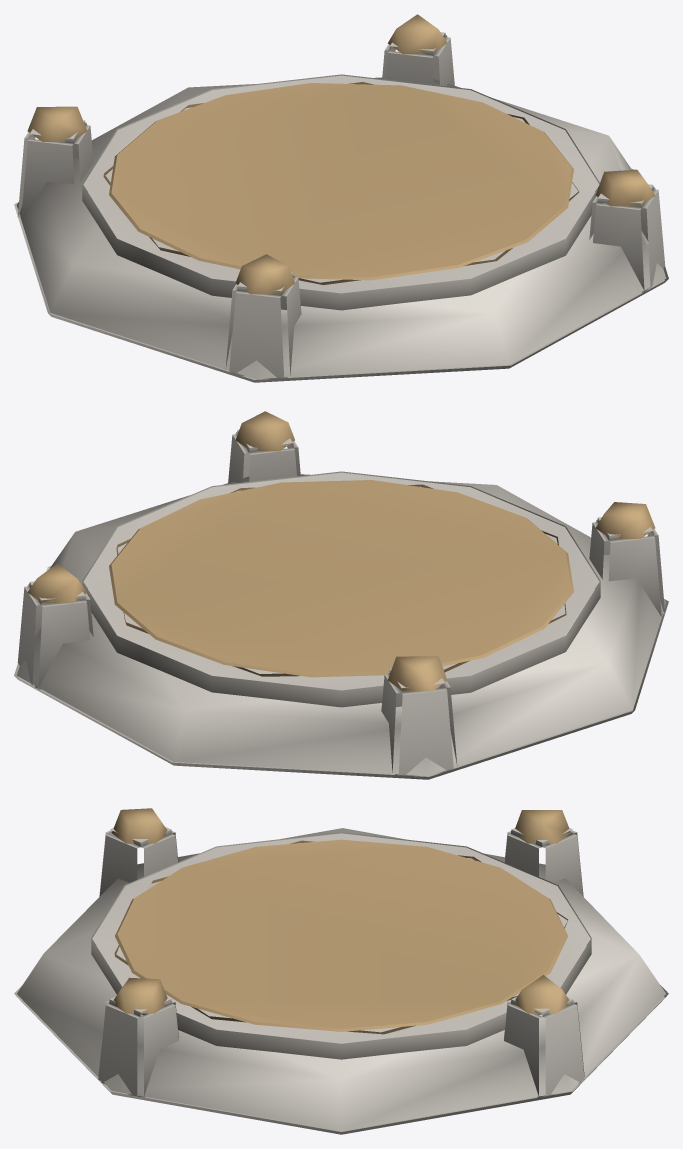
File: ink_cannon_base_lod1.glb
The picture shows the model from 3 angles, top to bottom: view 1: azimuth 30°, elevation 25°; view 2: azimuth 150°, elevation 25°; view 3: azimuth 270°, elevation 25°; orthographic projection. The views are drawn at different scales.
Visible parts, largest first — view 1: ink_cannon_base.001; view 2: ink_cannon_base.001; view 3: ink_cannon_base.001.
Part boxes in pixels (box(x1,y1,x2,y2)): ink_cannon_base.001: box(14, 14, 668, 382); ink_cannon_base.001: box(14, 411, 668, 779); ink_cannon_base.001: box(14, 808, 668, 1134).
Bounding box in the file's own units: 3.41 × 0.565 × 3.41.
